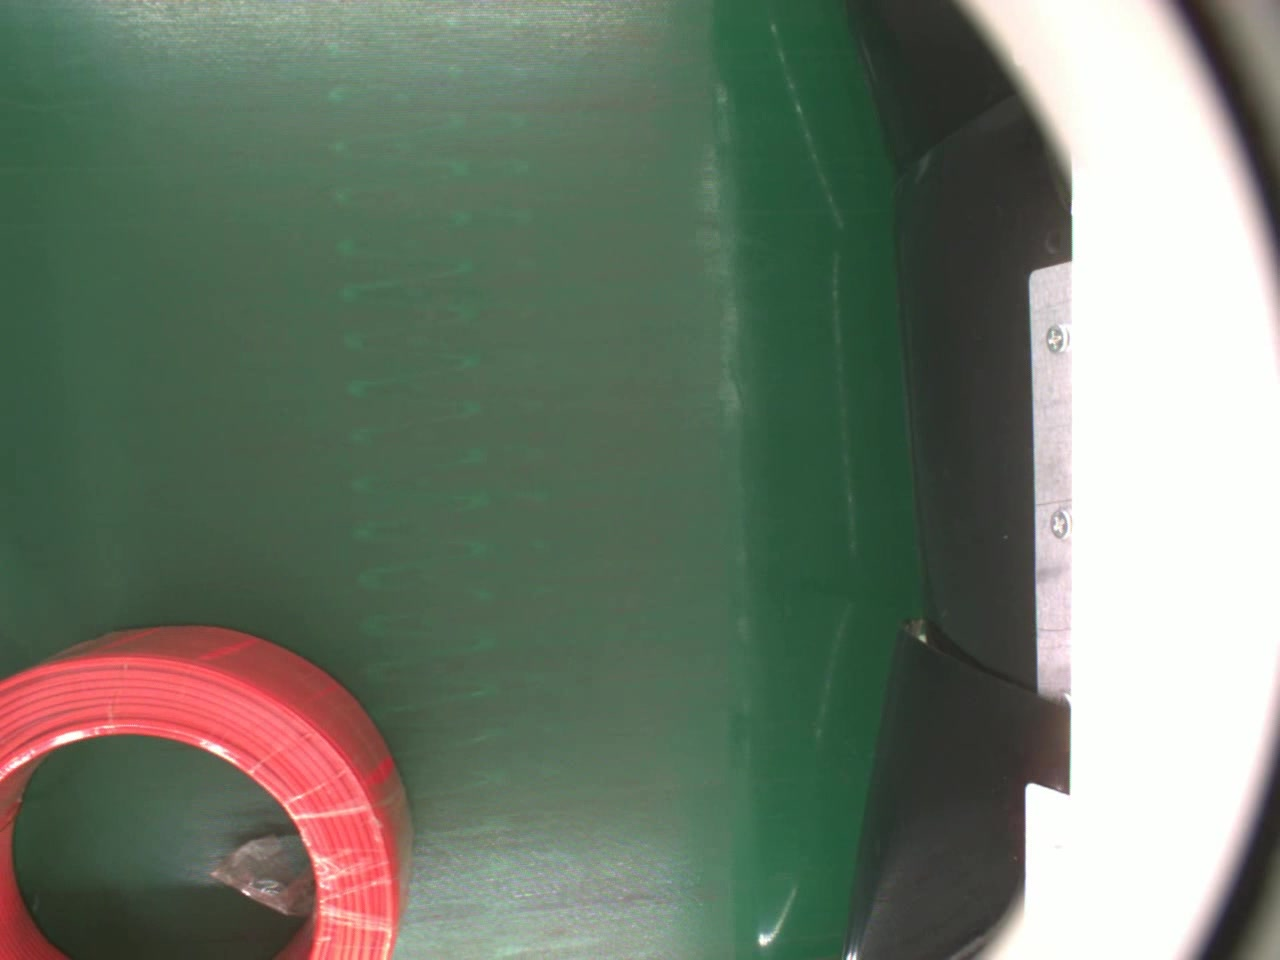red: (0, 622, 415, 960)
